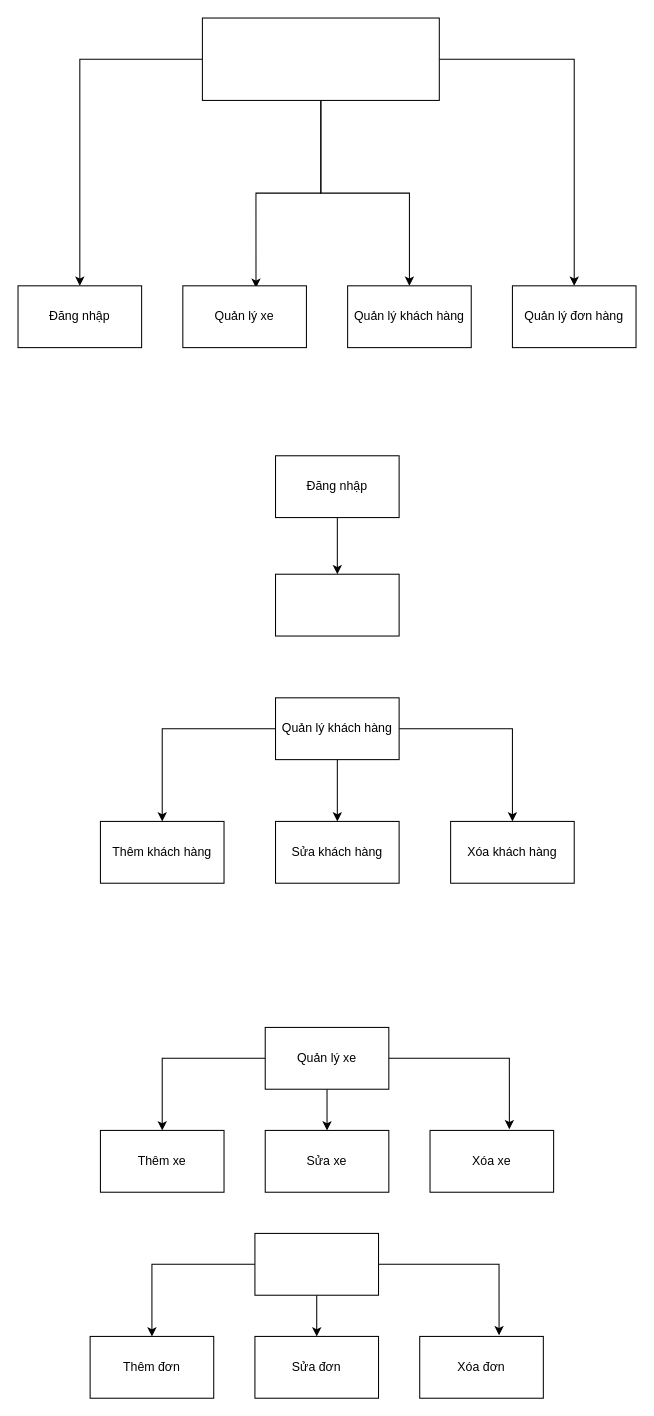
Some shapes in this 654 by 1416 pixel diagram are drawn without their labels. The shapes that lost their labels are listed below. From the top down, each one's centre as x and y in pixels, then its label:
pixel 320 58: Quản lý bán motor
pixel 336 604: Kiểm tra tài khoản mật khẩu
pixel 316 1263: Quản lý đơn
